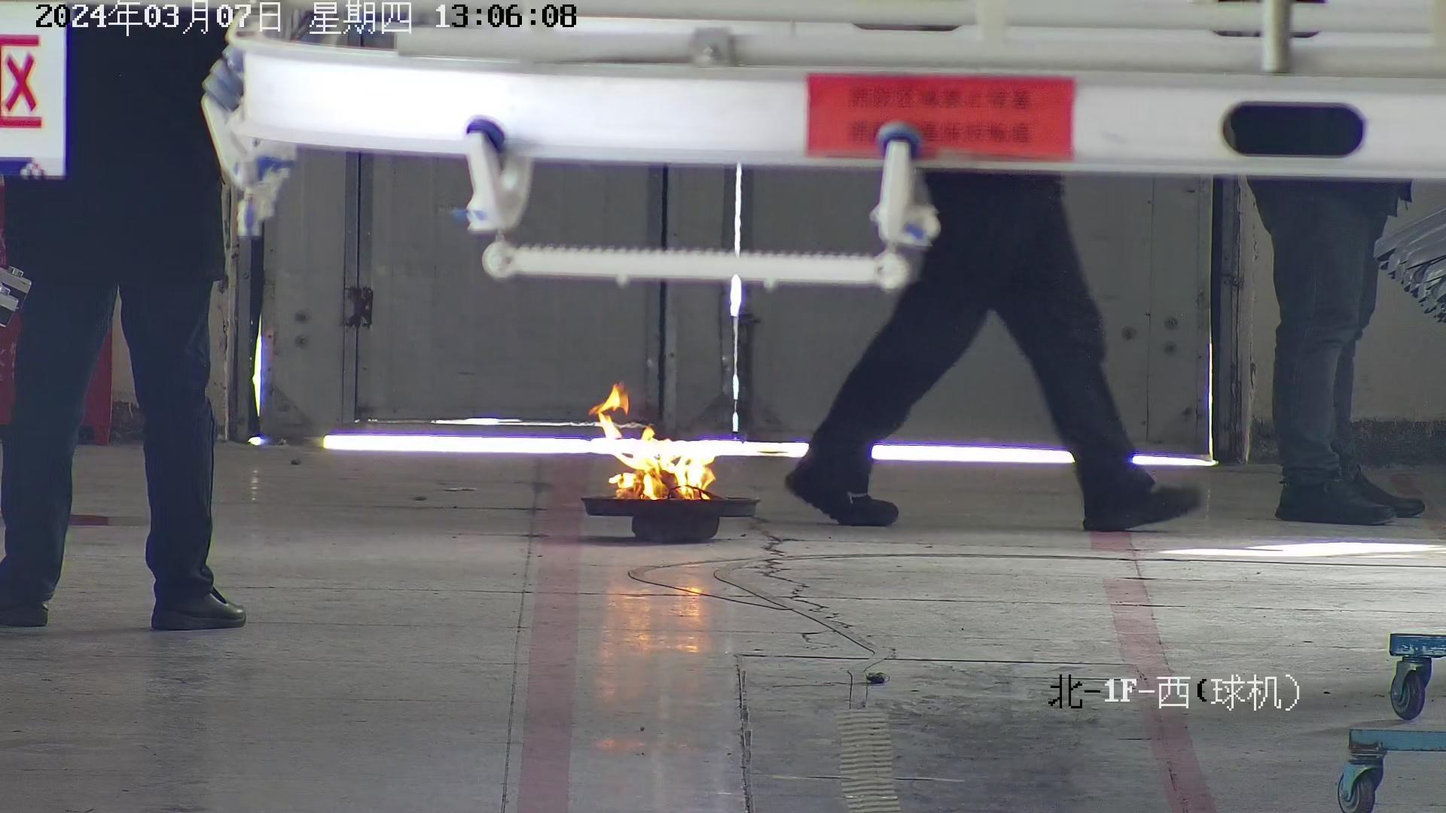fire: (590, 383, 715, 500)
